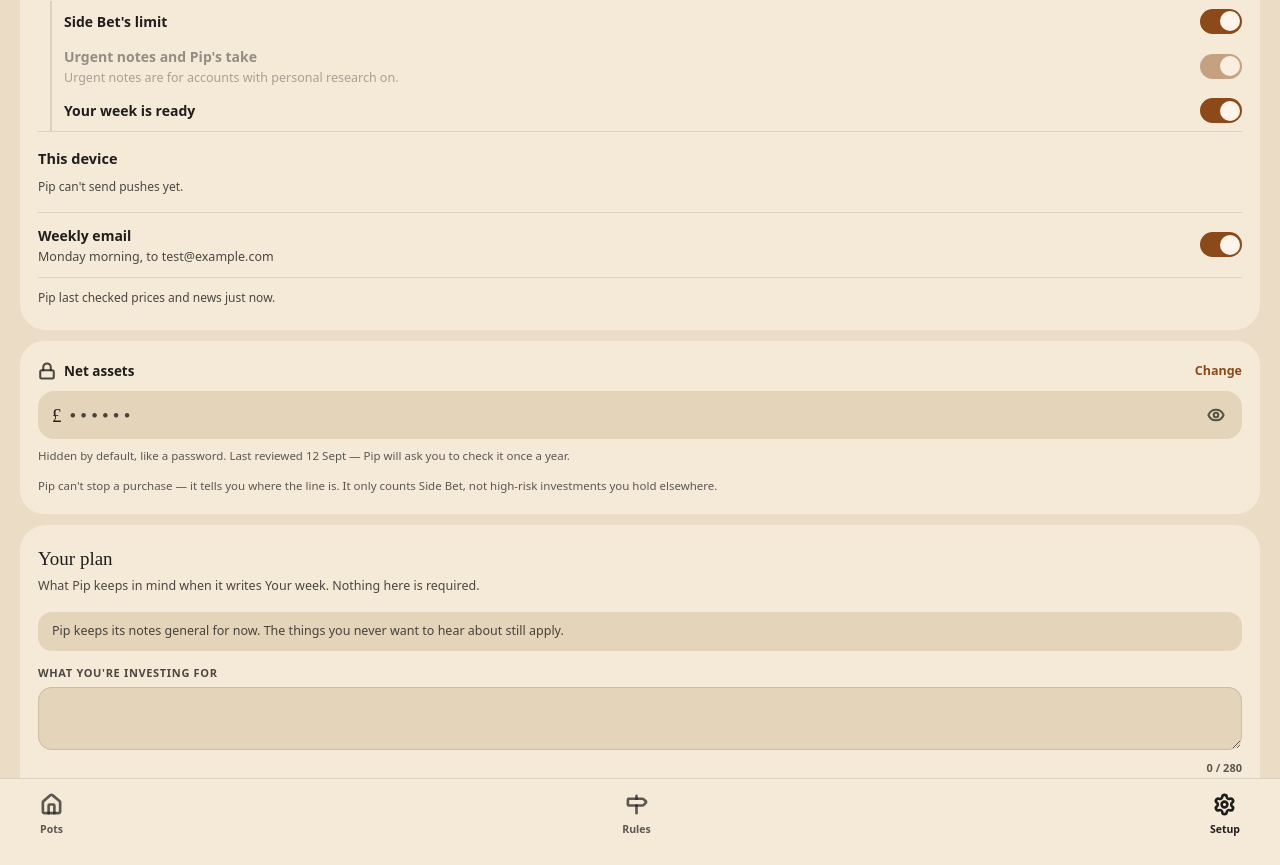
the net assets row › keeps the figure behind dots until the eye is tapped, and asks the server only then
The width and height of the screenshot is (1280, 865).
(page scrolled)
Check: the text "••••••" is shown, box x1=70 y1=405 x2=134 y2=426
Check: the element "Net assets" does not show "64,000", box x1=20 y1=341 x2=1260 y2=514
Click the button named "Show net assets". click: (1216, 415)
box: x1=1194 y1=393 x2=1238 y2=437
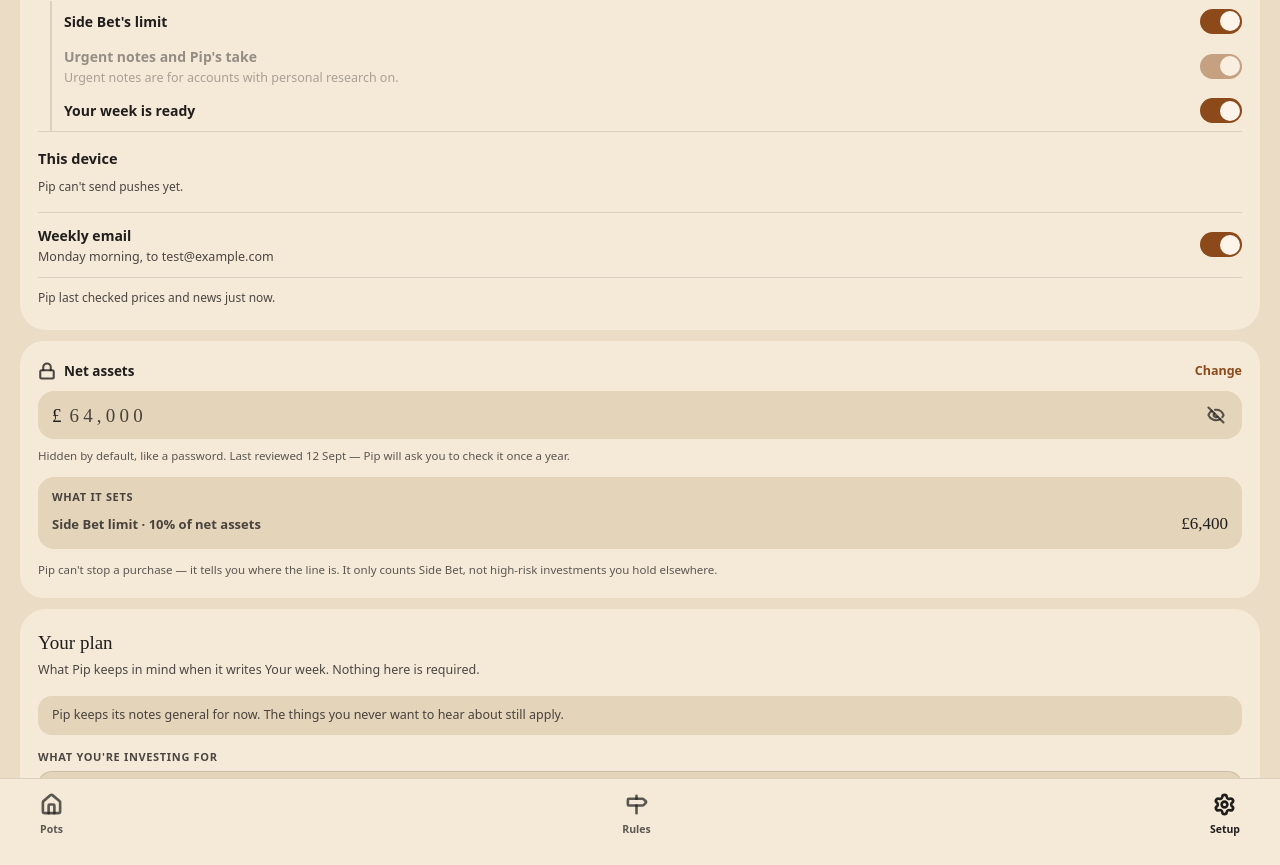
Check: the text "64,000" is shown, box x1=70 y1=405 x2=147 y2=426
Check: the element "Net assets" shows "£6,400", box x1=1181 y1=514 x2=1228 y2=533
